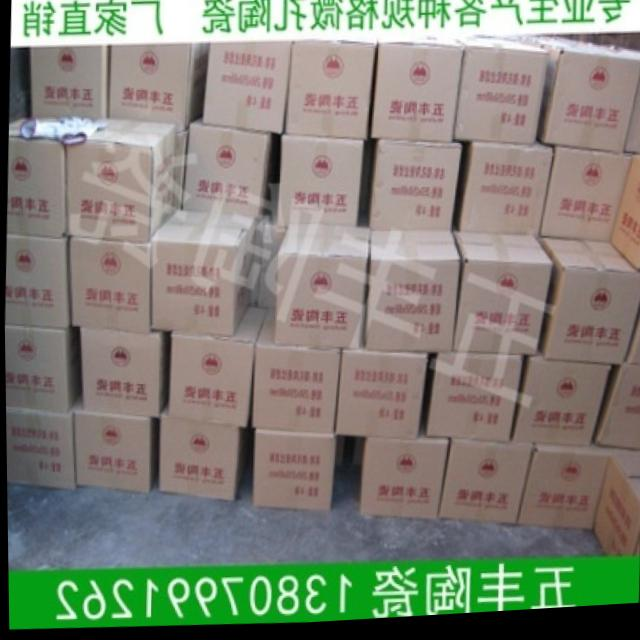box: (507, 41, 640, 161), (64, 118, 176, 242), (148, 211, 257, 338), (537, 244, 640, 371), (450, 236, 553, 363), (364, 230, 461, 357), (166, 310, 266, 431), (272, 227, 367, 354), (249, 310, 339, 439), (452, 44, 548, 149), (284, 40, 378, 144), (371, 42, 464, 145), (106, 45, 210, 136), (509, 361, 610, 454), (180, 123, 270, 224), (423, 357, 524, 447), (458, 148, 553, 243), (539, 153, 633, 249), (200, 43, 293, 138), (367, 142, 460, 235), (333, 354, 428, 445), (437, 444, 533, 532), (78, 329, 171, 417), (276, 138, 364, 230), (515, 451, 608, 538), (66, 237, 150, 333), (357, 440, 447, 525), (72, 413, 158, 496), (250, 431, 333, 516), (6, 118, 64, 239), (156, 419, 238, 504), (4, 324, 80, 413), (4, 234, 71, 329), (5, 404, 73, 490), (29, 47, 109, 120), (592, 453, 640, 563), (591, 371, 640, 458), (608, 161, 640, 279), (255, 226, 287, 312), (623, 74, 640, 161), (621, 319, 640, 375)
